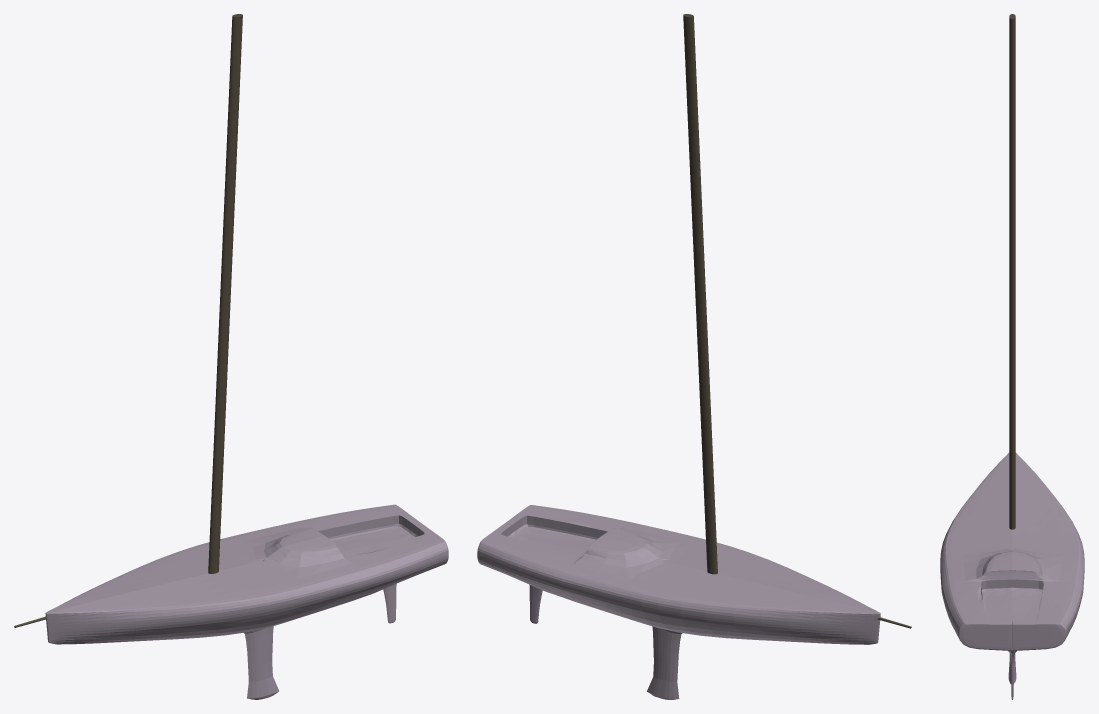
File: omRacerBoat5.dae
3 renders of one model, left to right at view 1: azimuth 30°, elevation 25°; view 2: azimuth 150°, elevation 25°; view 3: azimuth 270°, elevation 25°, orthographic. The views are drawn at different scales.
Visible parts, largest first — view 1: Hull, mastro; view 2: Hull, mastro; view 3: Hull, mastro.
Boxes of the visible parts, x1,y1,x2,y2 form: Hull: [45, 504, 448, 699]; mastro: [208, 14, 242, 573]; Hull: [477, 505, 880, 699]; mastro: [683, 14, 717, 574]; Hull: [940, 452, 1084, 699]; mastro: [1009, 14, 1015, 529].
Size of the model in its own units: 10.26 by 3.33 by 16.6.
